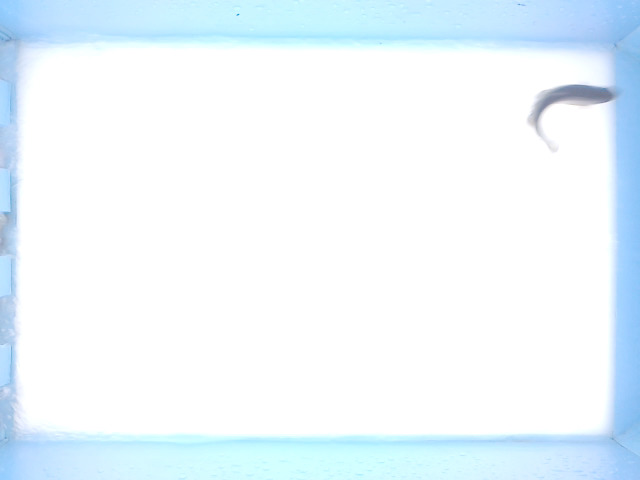fish: (525, 80, 626, 157)
